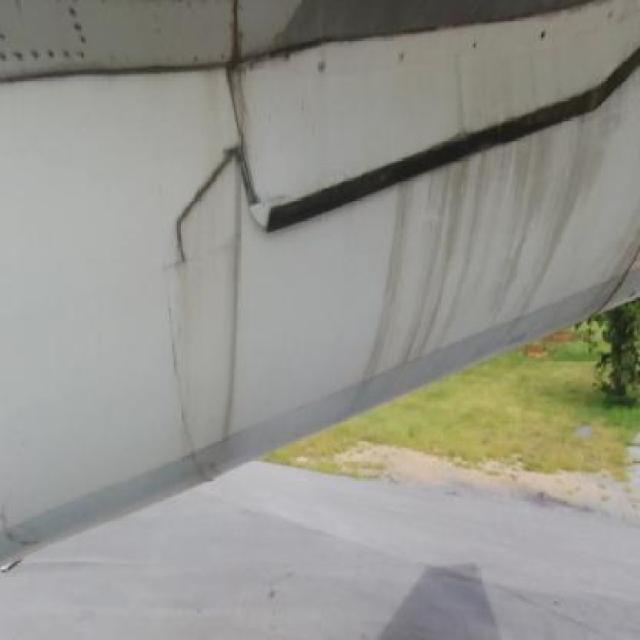Missing-Rivet: (0, 3, 106, 68), (526, 13, 571, 79), (462, 23, 500, 74)
Rust: (366, 76, 639, 409), (138, 51, 270, 497), (228, 15, 347, 106), (388, 38, 419, 73)
